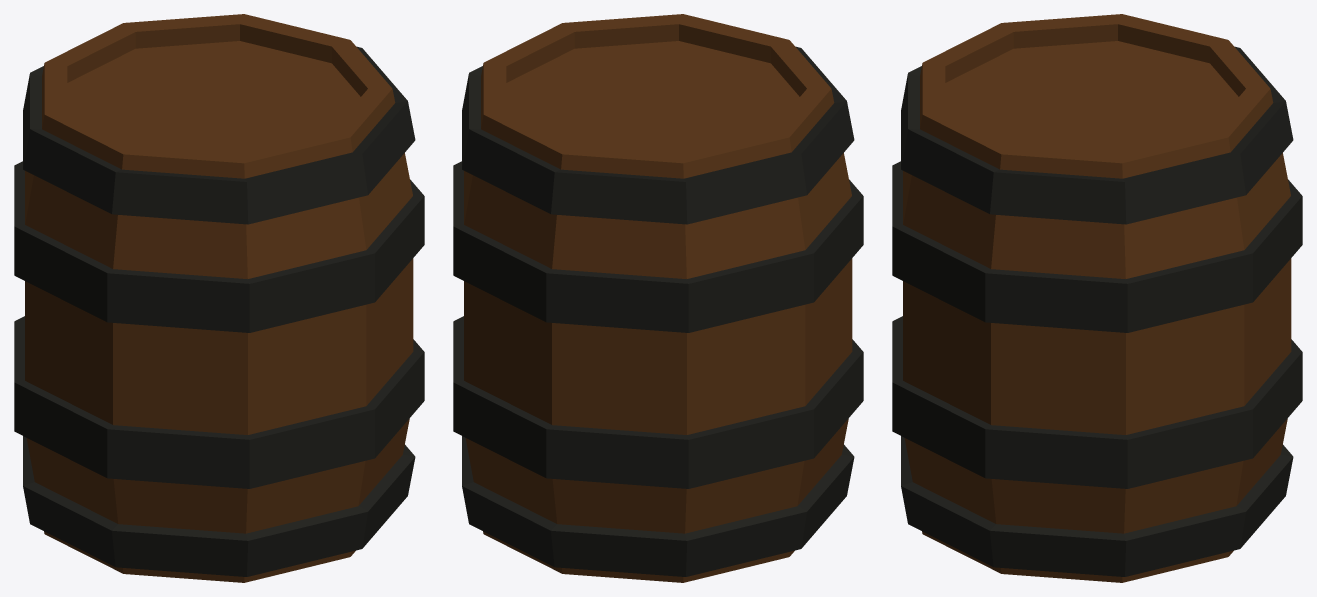
Rendered from Dark Brown Four Ringed Barrel.fbx.
3 views of the same model, side by side, from view 1: azimuth 30°, elevation 25°; view 2: azimuth 150°, elevation 25°; view 3: azimuth 270°, elevation 25° (orthographic).
Visible parts, largest first — view 1: Dark Brown Four Ringed Barrel; view 2: Dark Brown Four Ringed Barrel; view 3: Dark Brown Four Ringed Barrel.
Part boxes in pixels (box(x1,y1,x2,y2)): Dark Brown Four Ringed Barrel: box(14, 14, 424, 582); Dark Brown Four Ringed Barrel: box(453, 14, 863, 582); Dark Brown Four Ringed Barrel: box(892, 14, 1302, 582).
Size of the model in its own units: 180 by 200 by 177.
